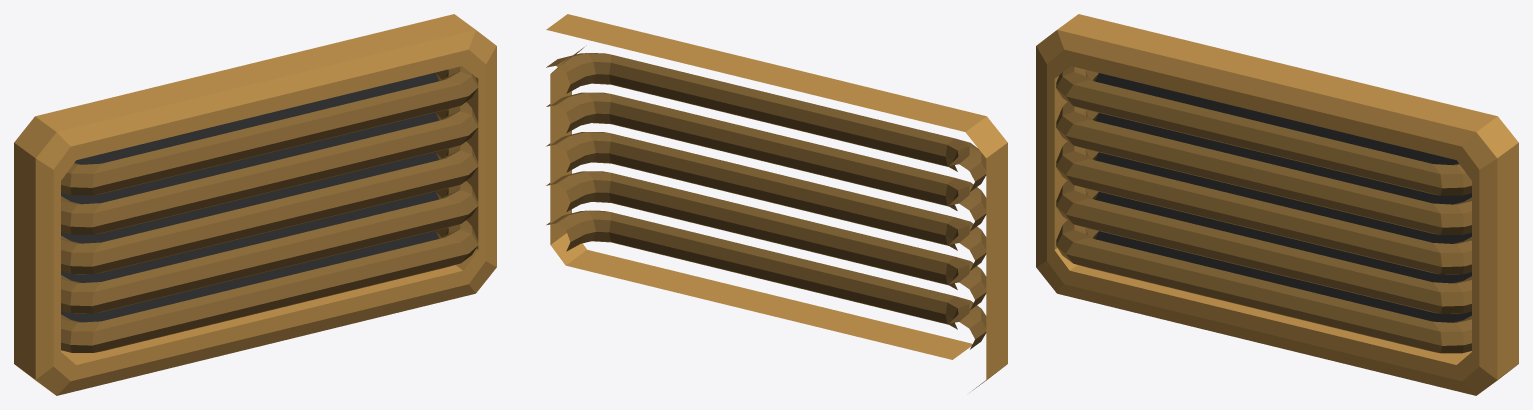
File: Vent.glb
3 renders of one model, left to right at view 1: azimuth 30°, elevation 25°; view 2: azimuth 150°, elevation 25°; view 3: azimuth 330°, elevation 25°, orthographic.
Visible parts, largest first — view 1: Details_Vent_5; view 2: Details_Vent_5; view 3: Details_Vent_5.
Part boxes in pixels (bbox=[...]): Details_Vent_5: bbox=[14, 14, 496, 395]; Details_Vent_5: bbox=[546, 14, 1007, 390]; Details_Vent_5: bbox=[1036, 14, 1518, 395].
Bounding box in the file's own units: 0.6864 × 0.3753 × 0.0905.
